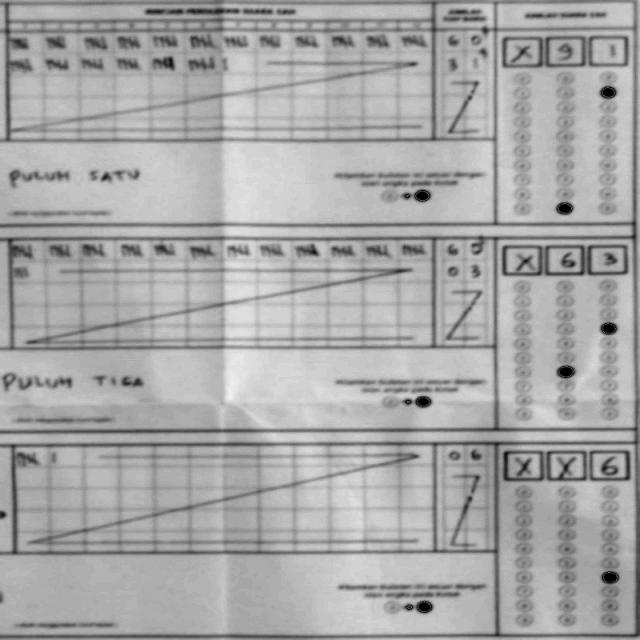Suara: (498, 238, 633, 278), (492, 443, 626, 483), (498, 30, 632, 70)
